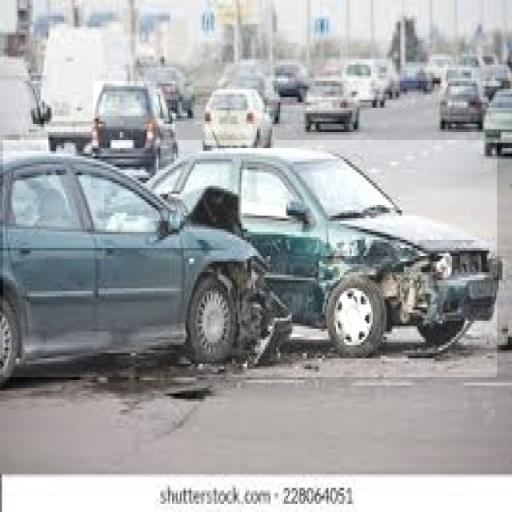小汽车: (93, 81, 175, 167), (206, 90, 274, 146)
小汽车撞小汽车: (3, 140, 497, 377)
